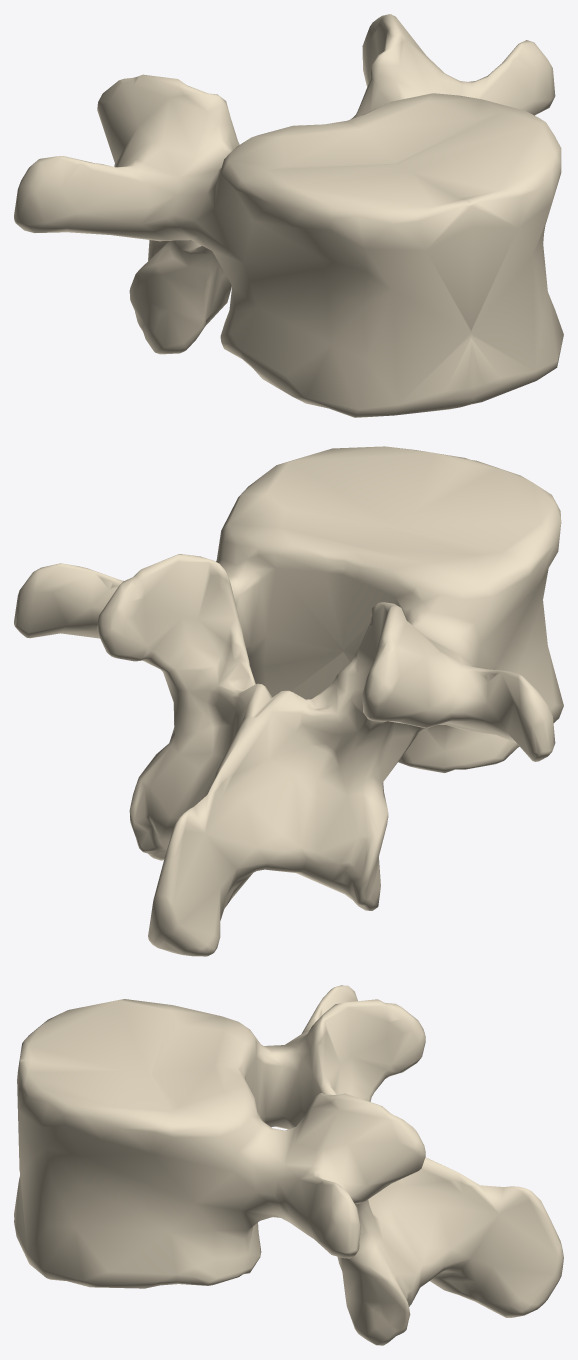
File: vertebra-l3.glb
3 views of the same model, one above another, from view 1: azimuth 30°, elevation 25°; view 2: azimuth 150°, elevation 25°; view 3: azimuth 270°, elevation 25° (orthographic). The views are drawn at different scales.
Visible parts, largest first — view 1: Vertebra L3; view 2: Vertebra L3; view 3: Vertebra L3.
Boxes of the visible parts, x1=… form: Vertebra L3: x1=14, y1=14, x2=563, y2=417; Vertebra L3: x1=14, y1=446, x2=563, y2=956; Vertebra L3: x1=14, y1=985, x2=563, y2=1345.
Bounding box in the file's own units: 0.0835 × 0.0447 × 0.0849.
